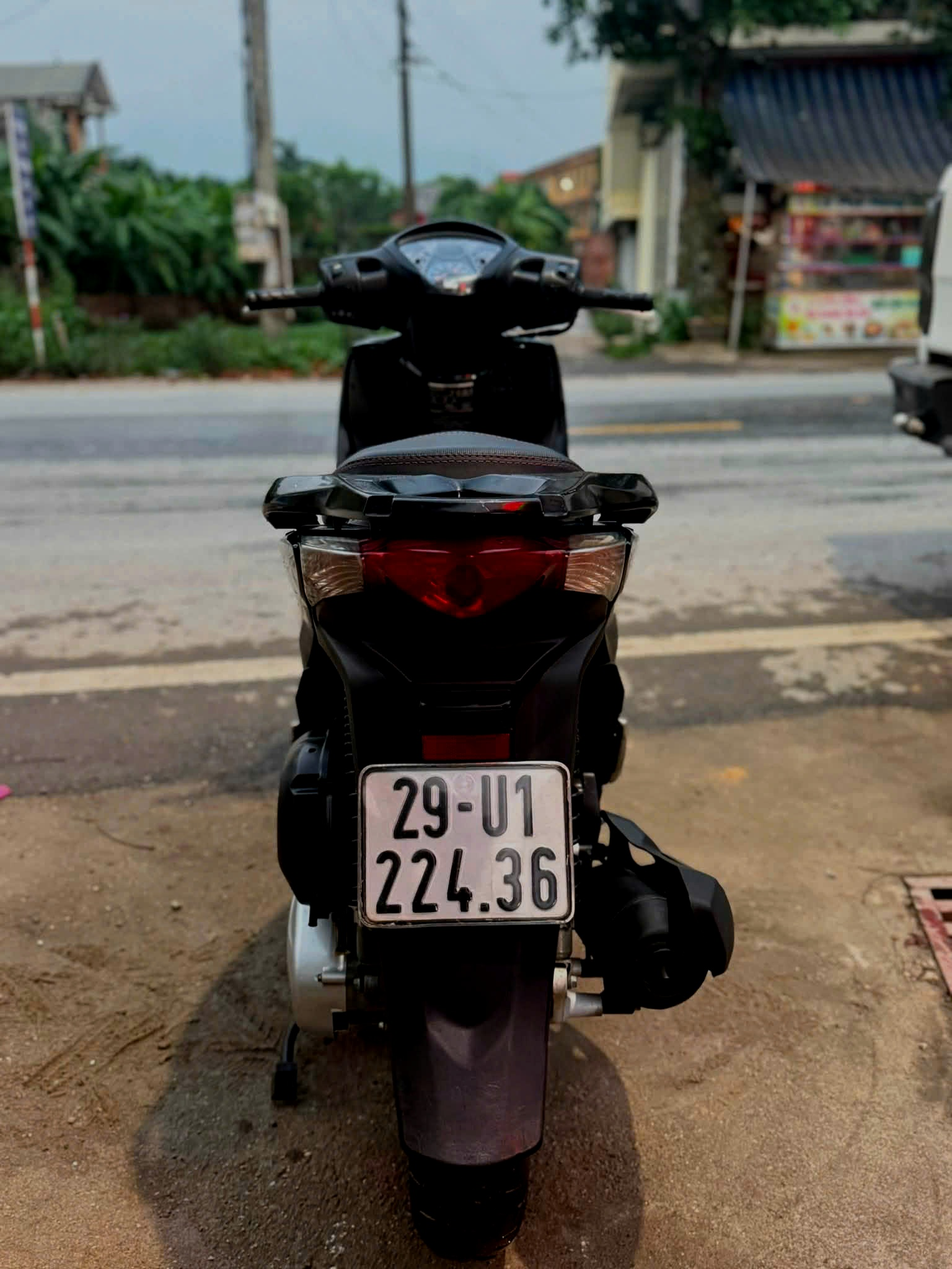Bien-so: (368, 756, 571, 927)
